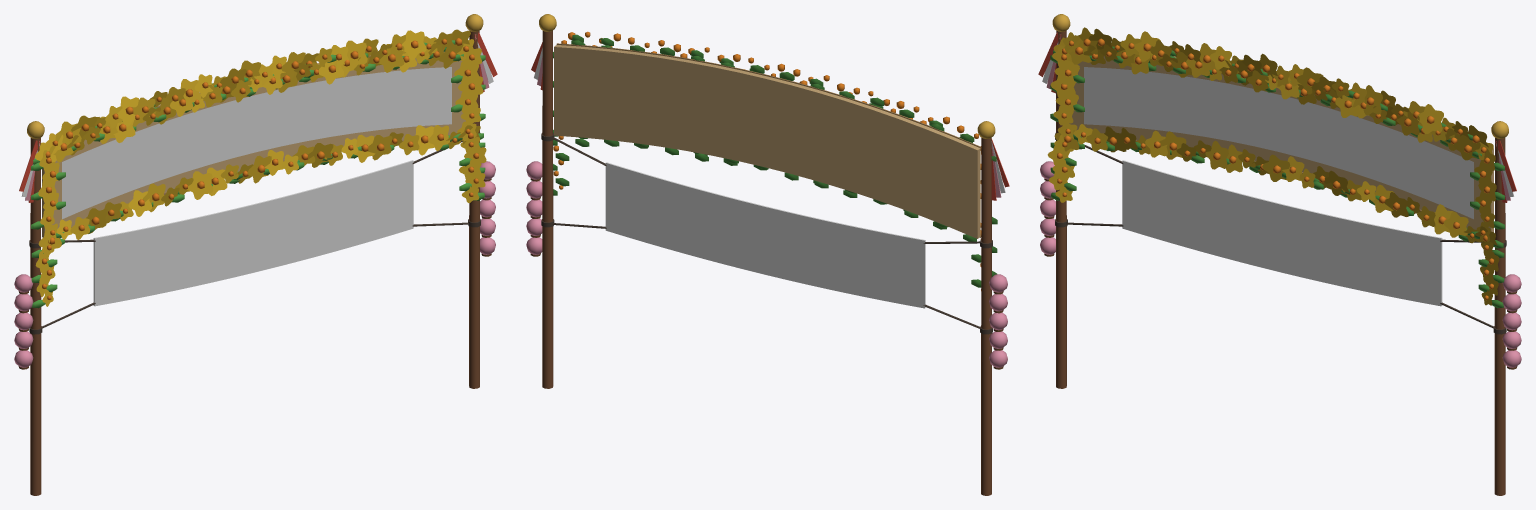
Rendered from arch.glb.
3 views of the same model, side by side, from view 1: azimuth 30°, elevation 25°; view 2: azimuth 150°, elevation 25°; view 3: azimuth 330°, elevation 25° (orthographic).
Parts seen in each view (by area): view 1: arch, arch_label, arch_label1, arch_glow; view 2: arch, arch_glow; view 3: arch, arch_label, arch_label1, arch_glow.
Boxes of the visible parts, left/top/right/bottom form: arch: left=18, top=14, right=497, bottom=495; arch_label: left=62, top=67, right=451, bottom=219; arch_label1: left=107, top=173, right=400, bottom=293; arch_glow: left=14, top=161, right=495, bottom=367; arch: left=530, top=14, right=1009, bottom=495; arch_glow: left=526, top=161, right=1007, bottom=367; arch: left=1038, top=14, right=1517, bottom=495; arch_label: left=1084, top=67, right=1473, bottom=219; arch_label1: left=1135, top=173, right=1428, bottom=293; arch_glow: left=1040, top=161, right=1521, bottom=367.
Size of the model in its own units: 9.6 by 7.39 by 0.4107.
